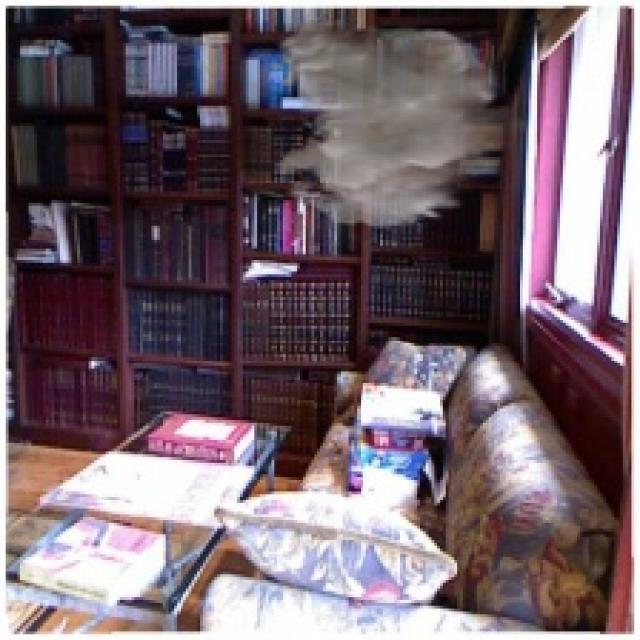Smoke: (268, 17, 532, 229)
